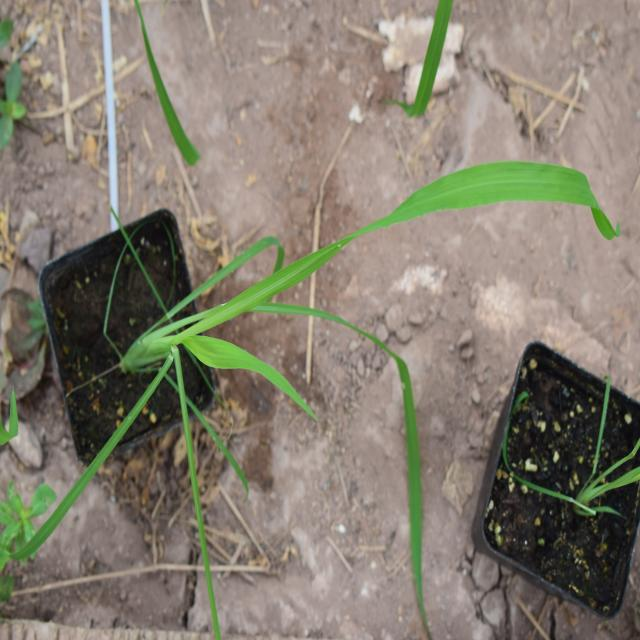barnyard_grass: (116, 165, 608, 487)
